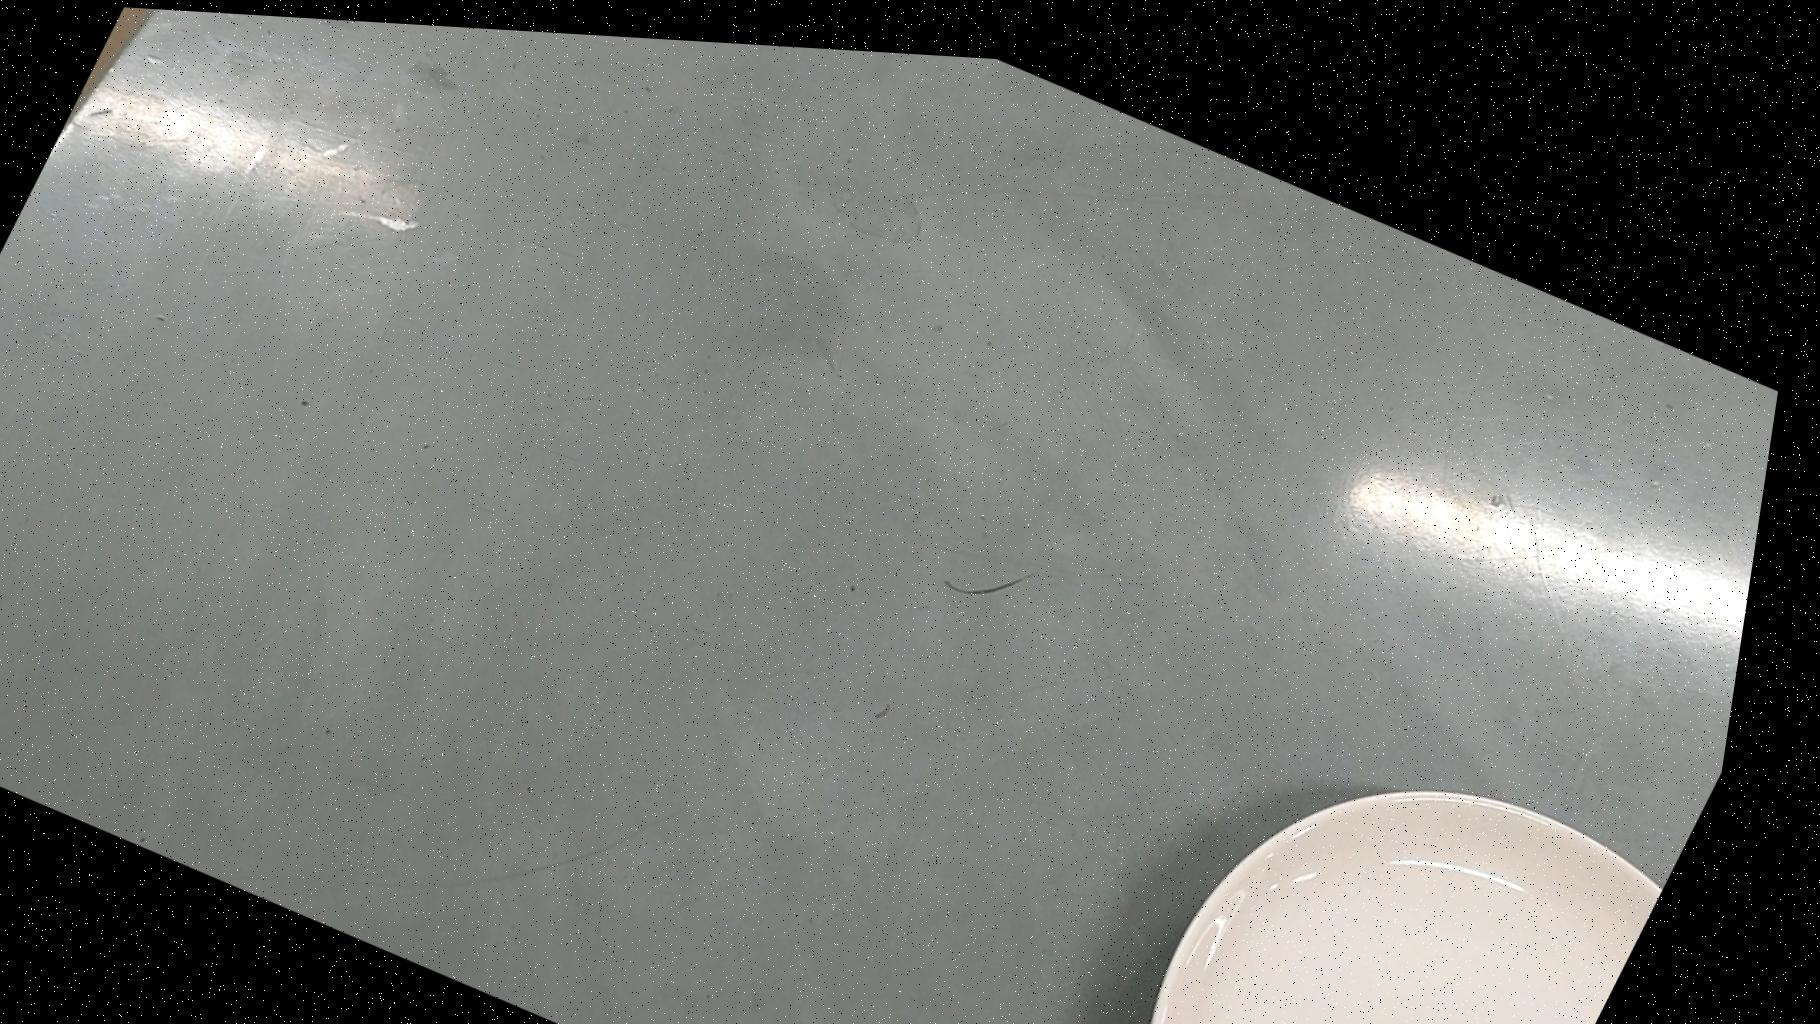plate: (1087, 688, 1710, 1024)
